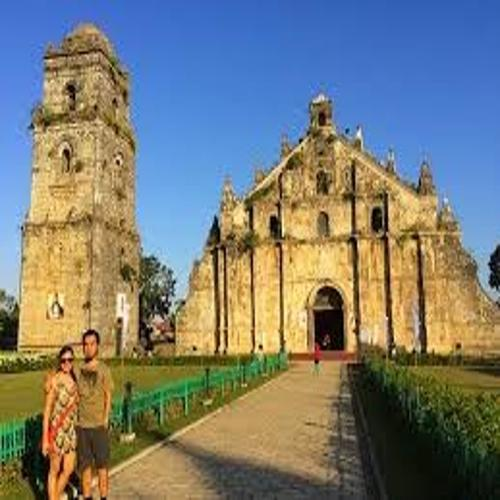Paoay Church: (13, 11, 500, 373)
